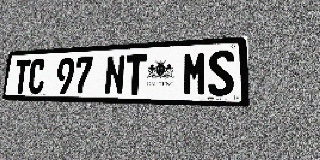7: (73, 57, 93, 94)
9: (55, 57, 75, 94)
C: (27, 59, 46, 94)
M: (182, 51, 207, 96)
N: (104, 55, 126, 95)
S: (208, 50, 235, 96)
T: (124, 54, 147, 95), (13, 60, 31, 94)
